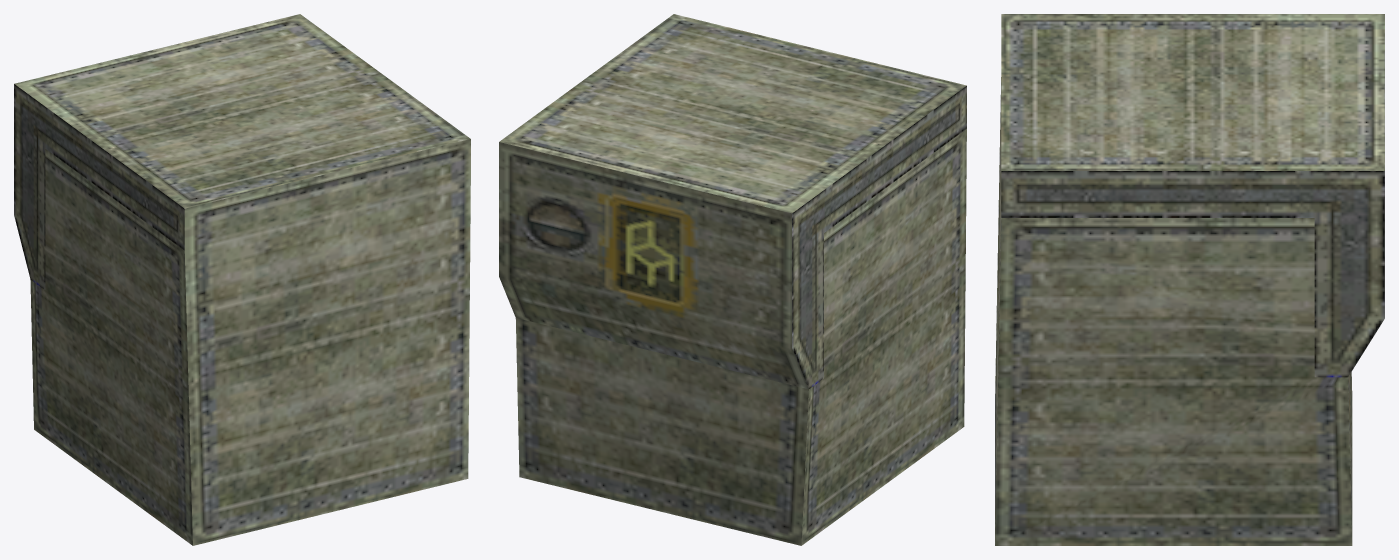
The model's file is con_man_furniture_lg_l1.fbx.
The picture shows the model from 3 angles, left to right: view 1: azimuth 30°, elevation 25°; view 2: azimuth 150°, elevation 25°; view 3: azimuth 270°, elevation 25°; orthographic projection. The views are drawn at different scales.
Parts seen in each view (by area): view 1: mesh_node; view 2: mesh_node; view 3: mesh_node.
Part boxes in pixels (x1,y1,x2,y2): mesh_node: [14, 14, 470, 545]; mesh_node: [499, 14, 966, 545]; mesh_node: [995, 14, 1384, 545].
Bounding box in the file's own units: 1.52 × 1.7 × 1.59.
